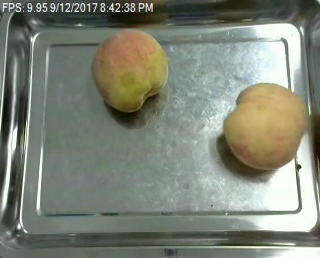Peach: (222, 82, 309, 170), (91, 27, 169, 113)
